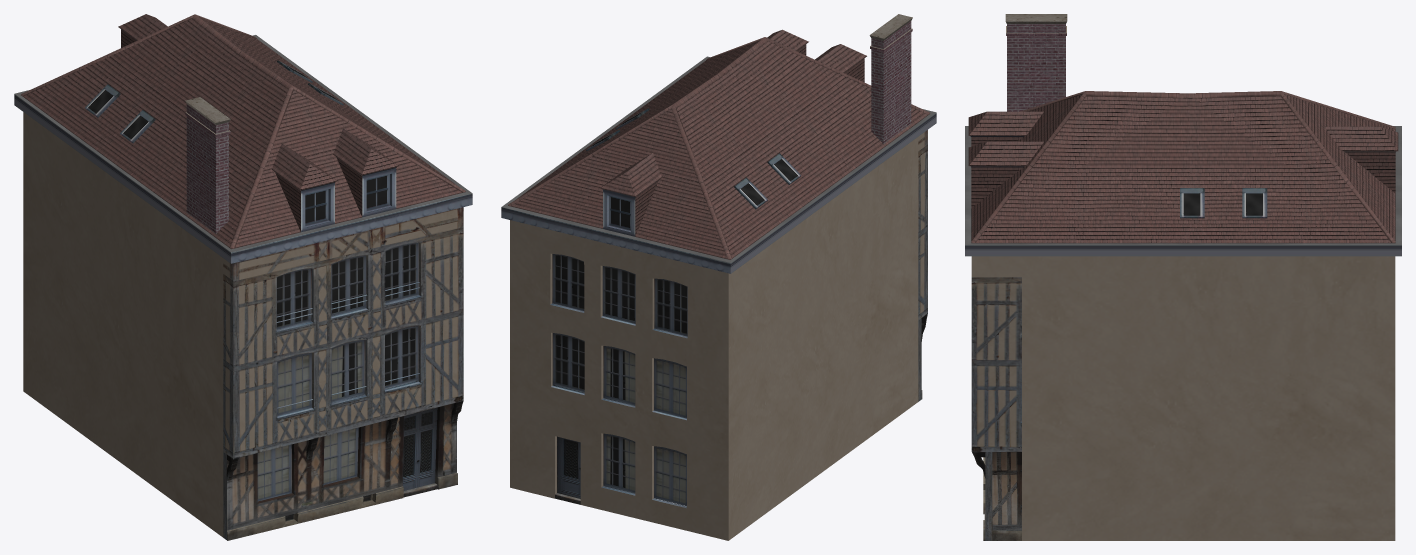
File: troyes_house_1_france.glb
3 renders of one model, left to right at view 1: azimuth 30°, elevation 25°; view 2: azimuth 150°, elevation 25°; view 3: azimuth 270°, elevation 25°, orthographic. The views are drawn at different scales.
Parts seen in each view (by area): view 1: 7_7_0; view 2: 7_7_0; view 3: 7_7_0.
Boxes of the visible parts, box(x1,y1,x2,y2) form: 7_7_0: box(14, 14, 472, 540); 7_7_0: box(501, 14, 936, 540); 7_7_0: box(965, 14, 1401, 540).
Bounding box in the file's own units: 8.4 × 13.63 × 13.05.
1 material, 1 textured.
